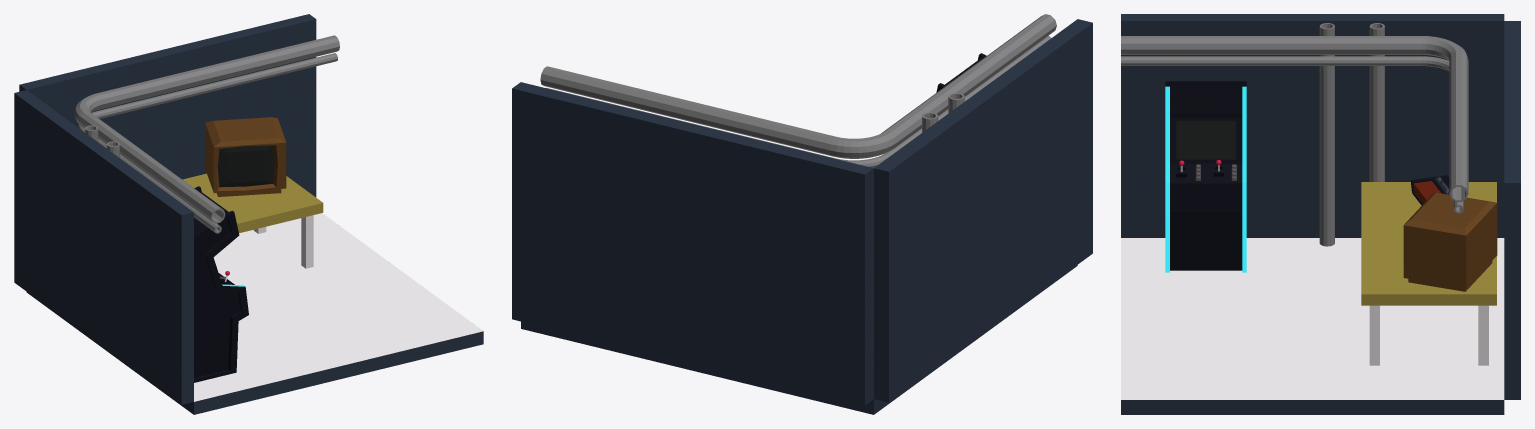
File: room-transformed.glb
The picture shows the model from 3 angles, left to right: view 1: azimuth 30°, elevation 25°; view 2: azimuth 150°, elevation 25°; view 3: azimuth 270°, elevation 25°; orthographic projection. The views are drawn at different scales.
Visible parts, largest first — view 1: Walls, Tube top, Plane.005, Tabletop, Plane.012, Tube Bottom, Plane.010, Table; view 2: Walls, Tube top, Tube Bottom; view 3: Walls, Plane.005, Tube top, Tabletop, Plane.010, Tubes Vertical, Tube Bottom, Table, Plane.014.
Boxes of the visible parts, x1=… form: Walls: x1=14, y1=14, x2=483, y2=414; Tube top: x1=74, y1=35, x2=339, y2=223; Plane.005: x1=194, y1=186, x2=248, y2=382; Tabletop: x1=182, y1=173, x2=323, y2=233; Plane.012: x1=213, y1=143, x2=279, y2=193; Tube Bottom: x1=78, y1=53, x2=337, y2=233; Plane.010: x1=205, y1=117, x2=286, y2=196; Table: x1=253, y1=215, x2=313, y2=268; Walls: x1=512, y1=19, x2=1092, y2=414; Tube top: x1=540, y1=14, x2=1056, y2=158; Tube Bottom: x1=546, y1=35, x2=1051, y2=167; Walls: x1=1121, y1=14, x2=1520, y2=414; Plane.005: x1=1165, y1=81, x2=1246, y2=272; Tube top: x1=1121, y1=36, x2=1468, y2=201; Tabletop: x1=1361, y1=182, x2=1496, y2=305; Plane.010: x1=1403, y1=192, x2=1497, y2=291; Tubes Vertical: x1=1319, y1=23, x2=1384, y2=246; Tube Bottom: x1=1121, y1=56, x2=1463, y2=213; Table: x1=1369, y1=305, x2=1488, y2=365; Plane.014: x1=1410, y1=175, x2=1449, y2=205.
Bounding box in the file's own units: 8.34 × 5.51 × 8.34.
Materials: 3 (3 with a texture image).
